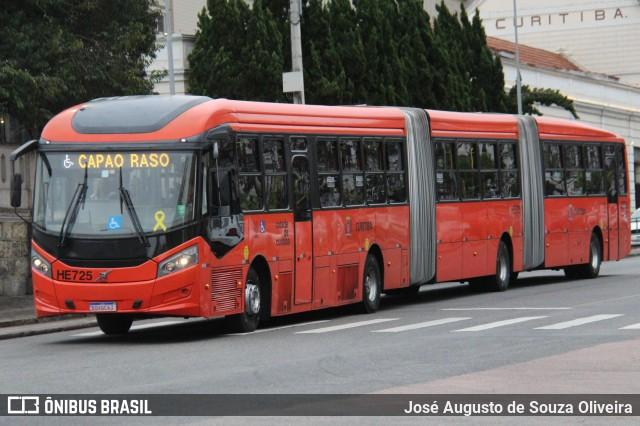CAPAO RASO: (75, 151, 170, 171)
